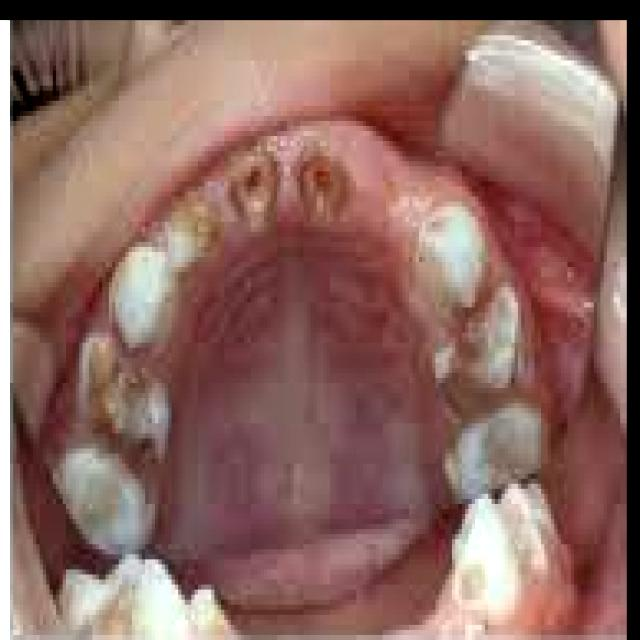cariess: (53, 333, 155, 554), (188, 151, 350, 217)
